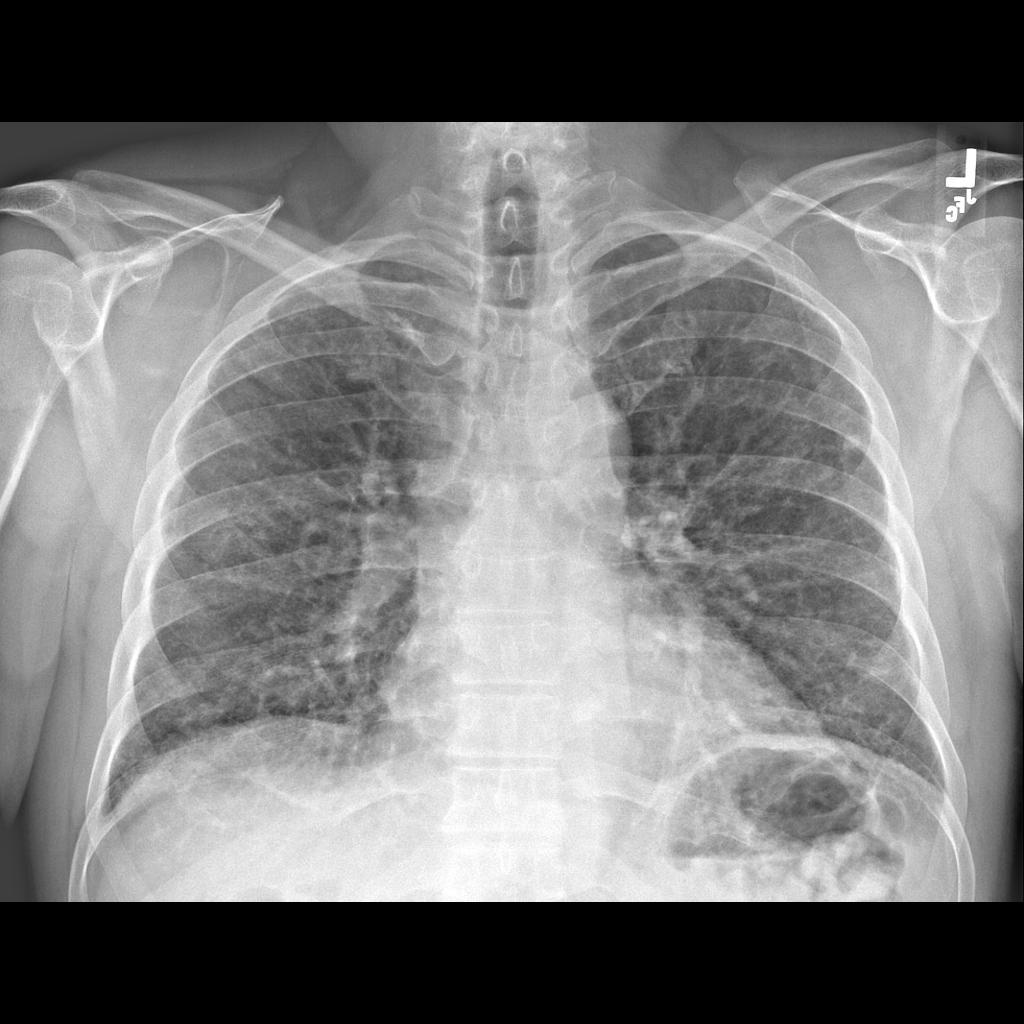Nodule: (843, 432, 864, 457)
